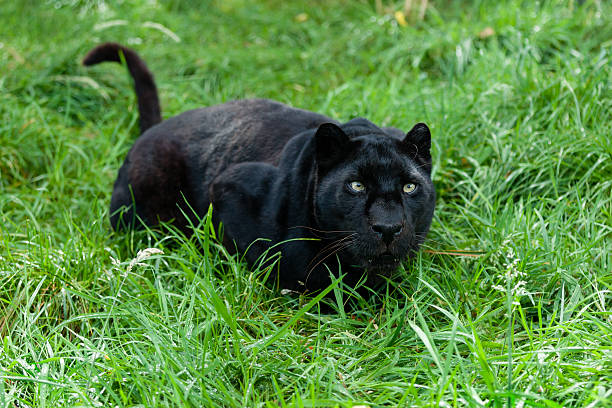panther: (301, 110, 460, 281)
